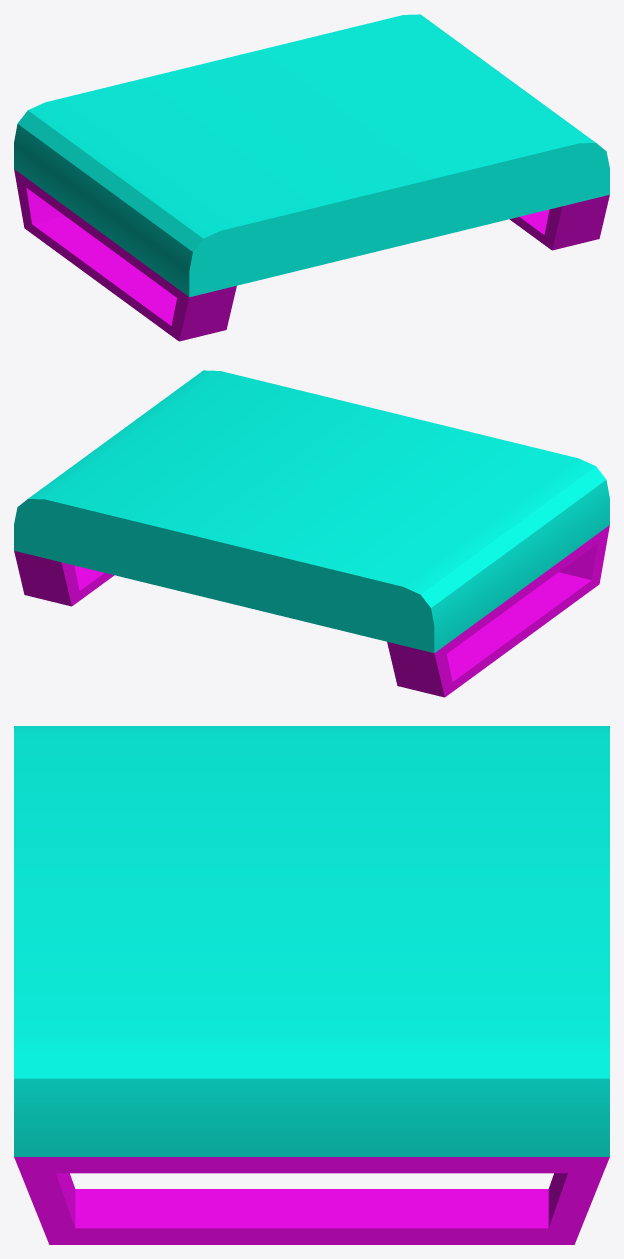
File: umgebung_roy_stuhl_low.FBX
3 renders of one model, top to bottom at view 1: azimuth 30°, elevation 25°; view 2: azimuth 150°, elevation 25°; view 3: azimuth 270°, elevation 25°, orthographic. The views are drawn at different scales.
Visible parts, largest first — view 1: o_roy_sitzflaesche_low, o_roy_stuhlbein_low, i_roy_stuhlbein_low; view 2: o_roy_sitzflaesche_low, o_roy_stuhlbein_low, i_roy_stuhlbein_low; view 3: o_roy_sitzflaesche_low, i_roy_stuhlbein_low.
Part boxes in pixels (x1=…): o_roy_sitzflaesche_low: x1=14, y1=14, x2=609, y2=297; o_roy_stuhlbein_low: x1=14, y1=169, x2=236, y2=341; i_roy_stuhlbein_low: x1=509, y1=195, x2=609, y2=250; o_roy_sitzflaesche_low: x1=14, y1=370, x2=609, y2=653; o_roy_stuhlbein_low: x1=387, y1=525, x2=609, y2=697; i_roy_stuhlbein_low: x1=14, y1=551, x2=114, y2=606; o_roy_sitzflaesche_low: x1=14, y1=726, x2=609, y2=1156; i_roy_stuhlbein_low: x1=14, y1=1157, x2=609, y2=1244.
Bounding box in the file's own units: 218 × 157 × 54.8.
